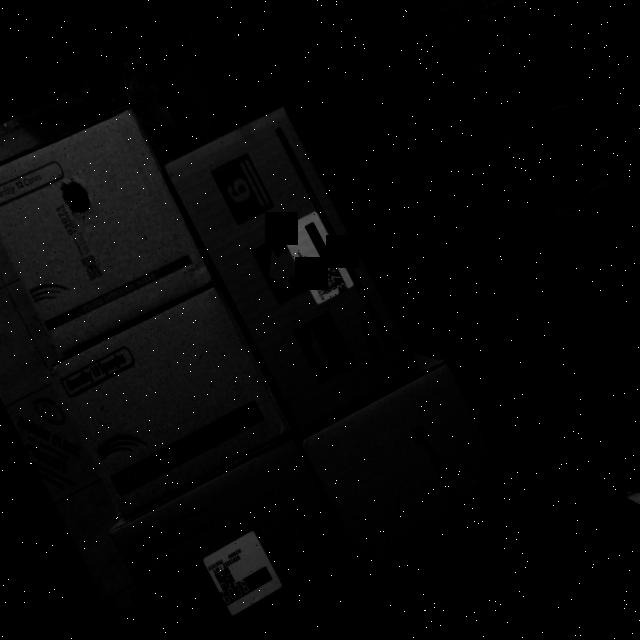box: (162, 100, 419, 430), (107, 436, 390, 640), (50, 284, 292, 515), (0, 99, 217, 356), (304, 368, 534, 608)
